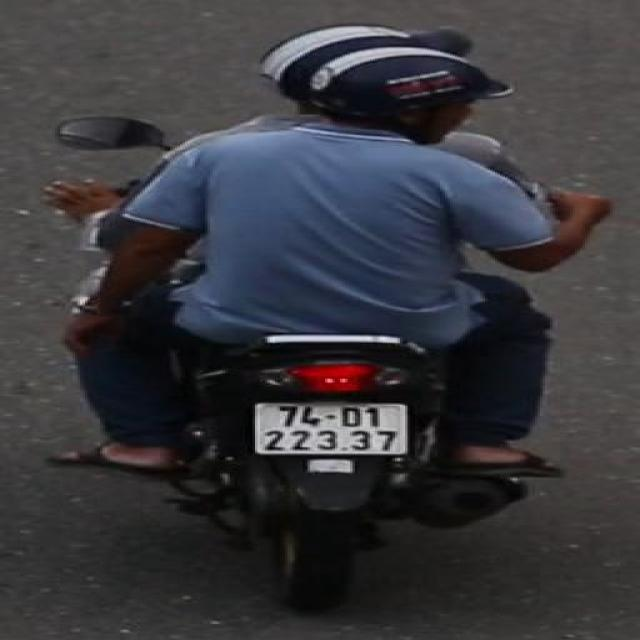LP: (248, 396, 416, 462)
helmet: (323, 44, 505, 140)
